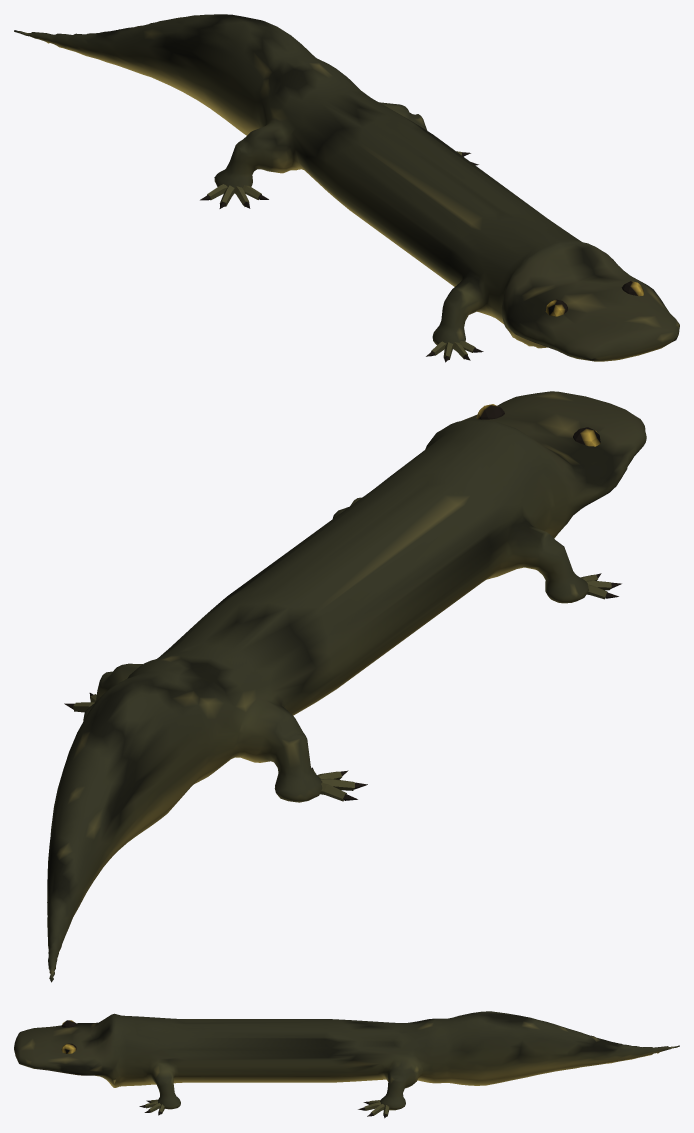
The model's file is Karaurus.fbx.
The picture shows the model from 3 angles, top to bottom: view 1: azimuth 30°, elevation 25°; view 2: azimuth 150°, elevation 25°; view 3: azimuth 270°, elevation 25°; orthographic projection. The views are drawn at different scales.
Parts seen in each view (by area): view 1: Karaurus; view 2: Karaurus; view 3: Karaurus.
Boxes of the visible parts, x1,y1,x2,y2 form: Karaurus: (14, 14, 679, 362); Karaurus: (47, 391, 646, 982); Karaurus: (14, 1011, 679, 1118).
Size of the model in its own units: 0.299 by 0.1258 by 1.08.
